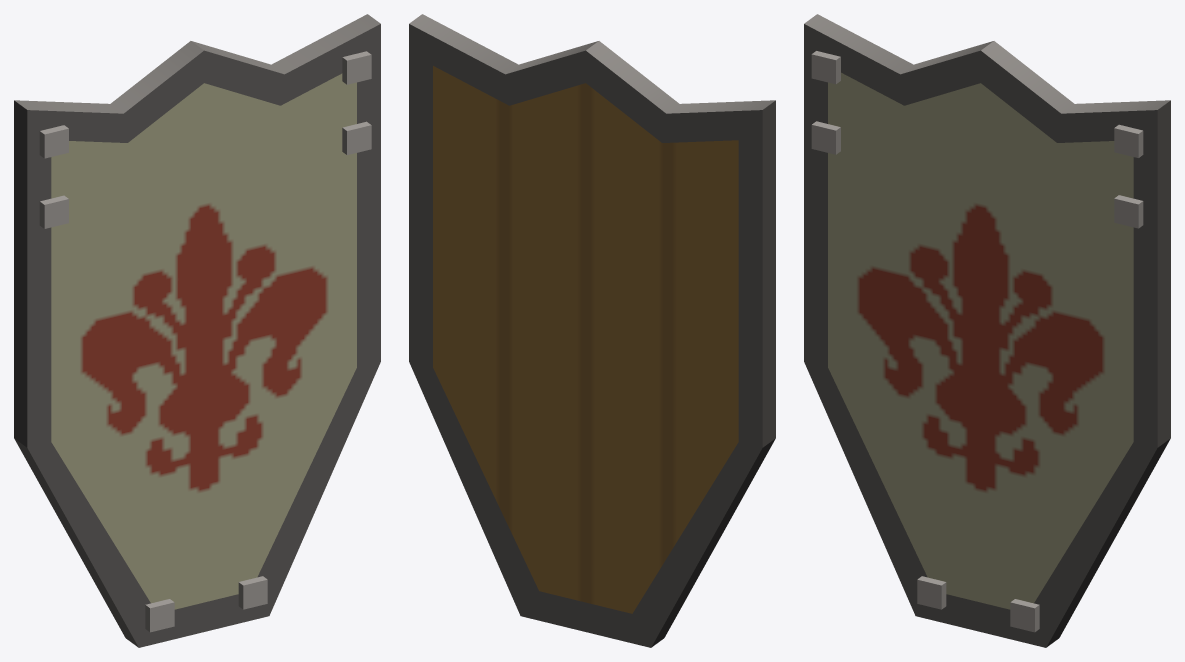
Rendered from SF_Wep_Human_Shield_012.fbx.
3 views of the same model, side by side, from view 1: azimuth 30°, elevation 25°; view 2: azimuth 150°, elevation 25°; view 3: azimuth 330°, elevation 25° (orthographic).
Parts seen in each view (by area): view 1: SF_Wep_Human_Shield_012; view 2: SF_Wep_Human_Shield_012; view 3: SF_Wep_Human_Shield_012.
Part boxes in pixels (x1,y1,x2,y2): SF_Wep_Human_Shield_012: (14, 14, 380, 647); SF_Wep_Human_Shield_012: (409, 14, 775, 647); SF_Wep_Human_Shield_012: (804, 14, 1170, 647).
Size of the model in its own units: 0.9564 by 1.5 by 0.0851.
